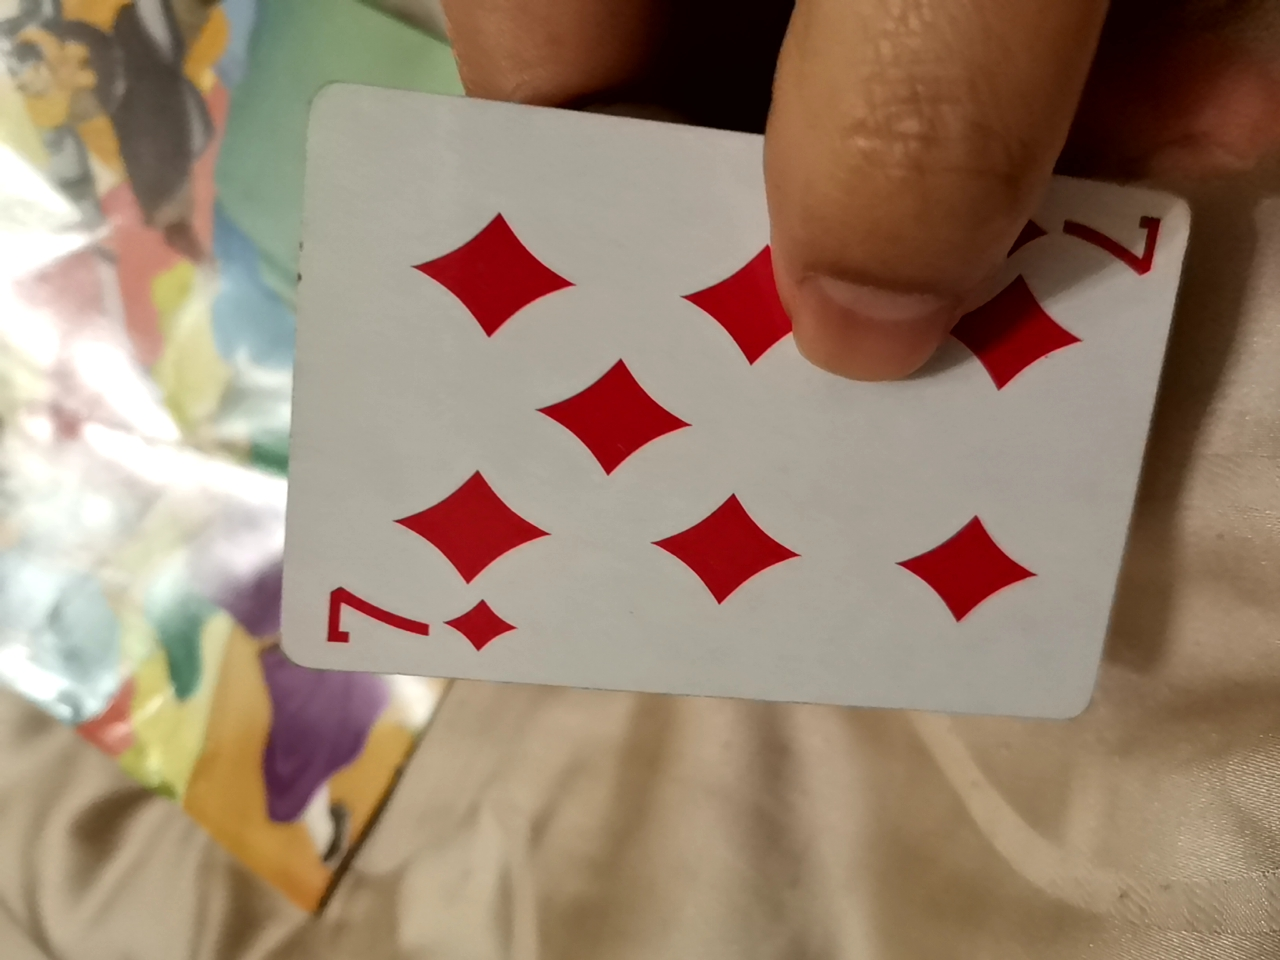fk 7: (299, 108, 1194, 751)
